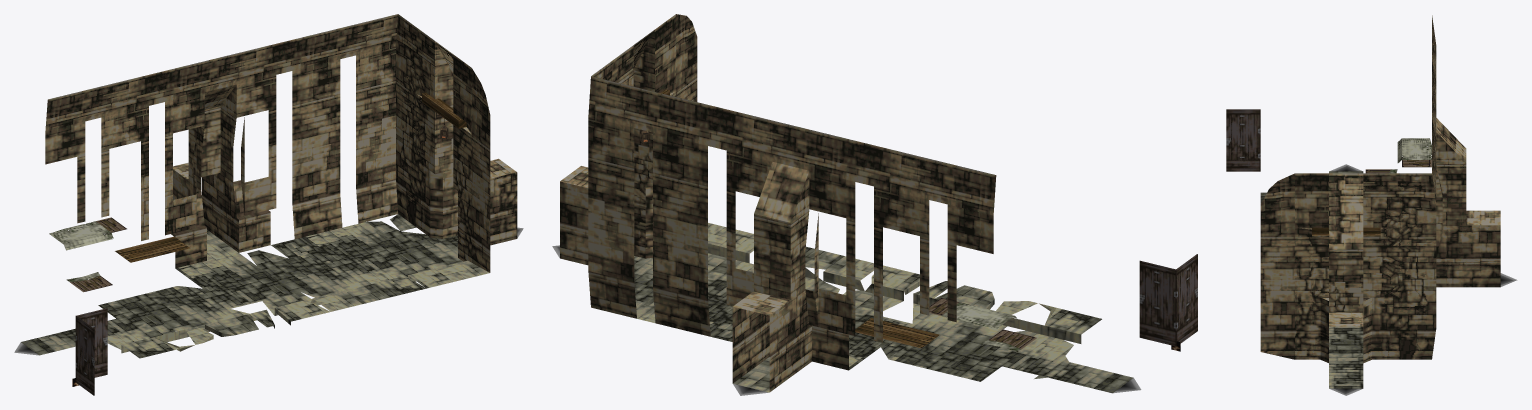
Rendered from MAP110.obj.
The picture shows the model from 3 angles, left to right: view 1: azimuth 30°, elevation 25°; view 2: azimuth 150°, elevation 25°; view 3: azimuth 270°, elevation 25°; orthographic projection. The views are drawn at different scales.
Visible parts, largest first — view 1: mesh_16, mesh_11, mesh_17, mesh_12, mesh_8, mesh_14, mesh_6, mesh_15, mesh_13, mesh_19; view 2: mesh_16, mesh_11, mesh_17, mesh_12, mesh_6, mesh_8, mesh_14, mesh_15, mesh_13; view 3: mesh_17, mesh_16, mesh_11, mesh_7, mesh_14, mesh_13, mesh_19.
Part boxes in pixels (bbox=[...]): mesh_16: bbox=[45, 14, 398, 268]; mesh_11: bbox=[21, 214, 462, 355]; mesh_17: bbox=[396, 14, 517, 272]; mesh_12: bbox=[121, 260, 489, 358]; mesh_8: bbox=[75, 316, 93, 395]; mesh_14: bbox=[49, 221, 113, 281]; mesh_6: bbox=[76, 308, 107, 377]; mesh_15: bbox=[115, 236, 189, 262]; mesh_13: bbox=[70, 217, 126, 292]; mesh_19: bbox=[422, 92, 466, 128]; mesh_16: bbox=[588, 76, 996, 391]; mesh_11: bbox=[634, 253, 1133, 393]; mesh_17: bbox=[560, 14, 697, 265]; mesh_12: bbox=[708, 223, 1101, 343]; mesh_6: bbox=[1139, 260, 1176, 346]; mesh_8: bbox=[1176, 254, 1197, 343]; mesh_14: bbox=[941, 302, 1021, 352]; mesh_15: bbox=[855, 318, 939, 348]; mesh_13: bbox=[929, 298, 1036, 349]; mesh_17: bbox=[1260, 173, 1436, 363]; mesh_16: bbox=[1432, 15, 1500, 287]; mesh_11: bbox=[1329, 171, 1363, 388]; mesh_7: bbox=[1226, 109, 1260, 171]; mesh_14: bbox=[1389, 138, 1431, 173]; mesh_13: bbox=[1365, 160, 1431, 173]; mesh_19: bbox=[1312, 227, 1380, 235].
Bounding box in the file's own units: 205 × 78.2 × 109.
9 materials, 9 textured.
